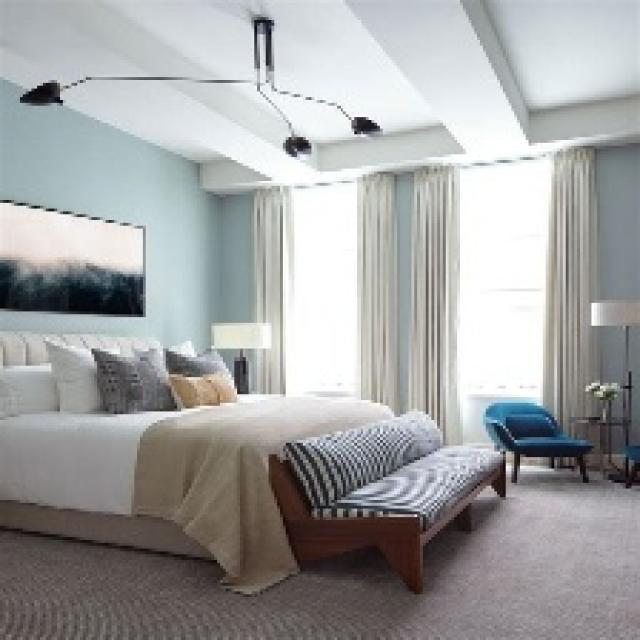Bed: (0, 328, 397, 592)
